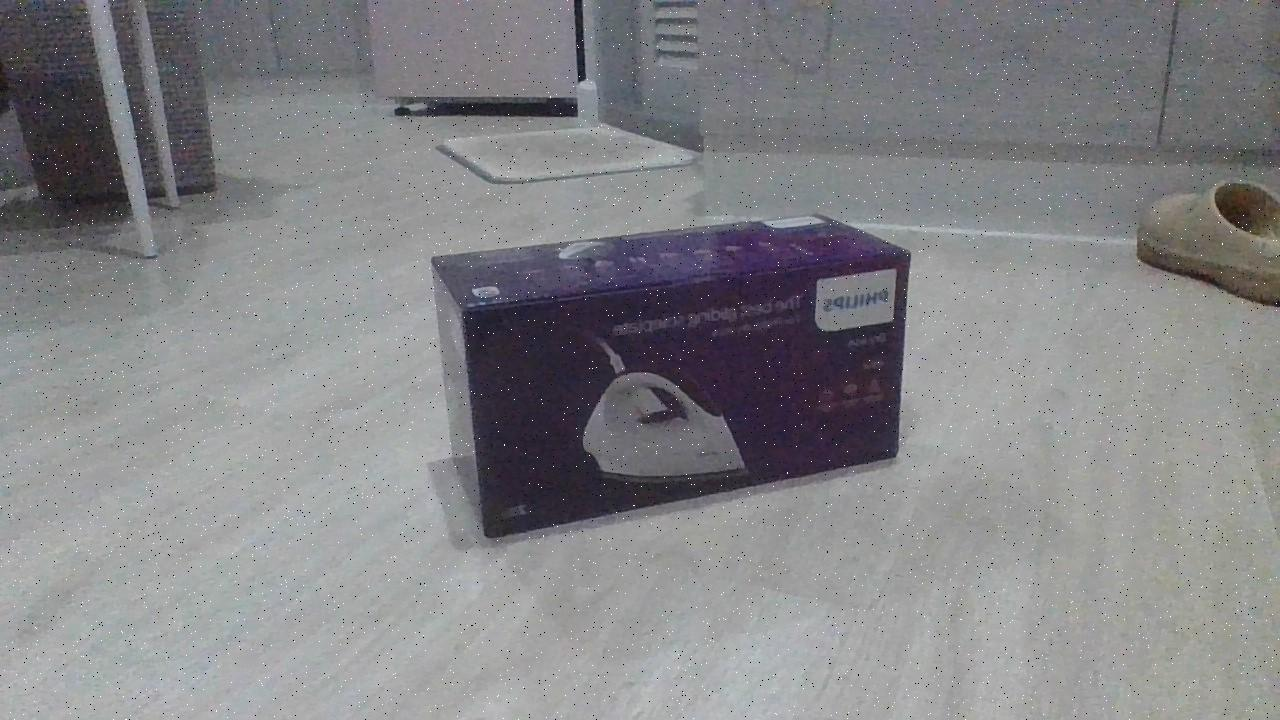IRON: (427, 207, 916, 547)
